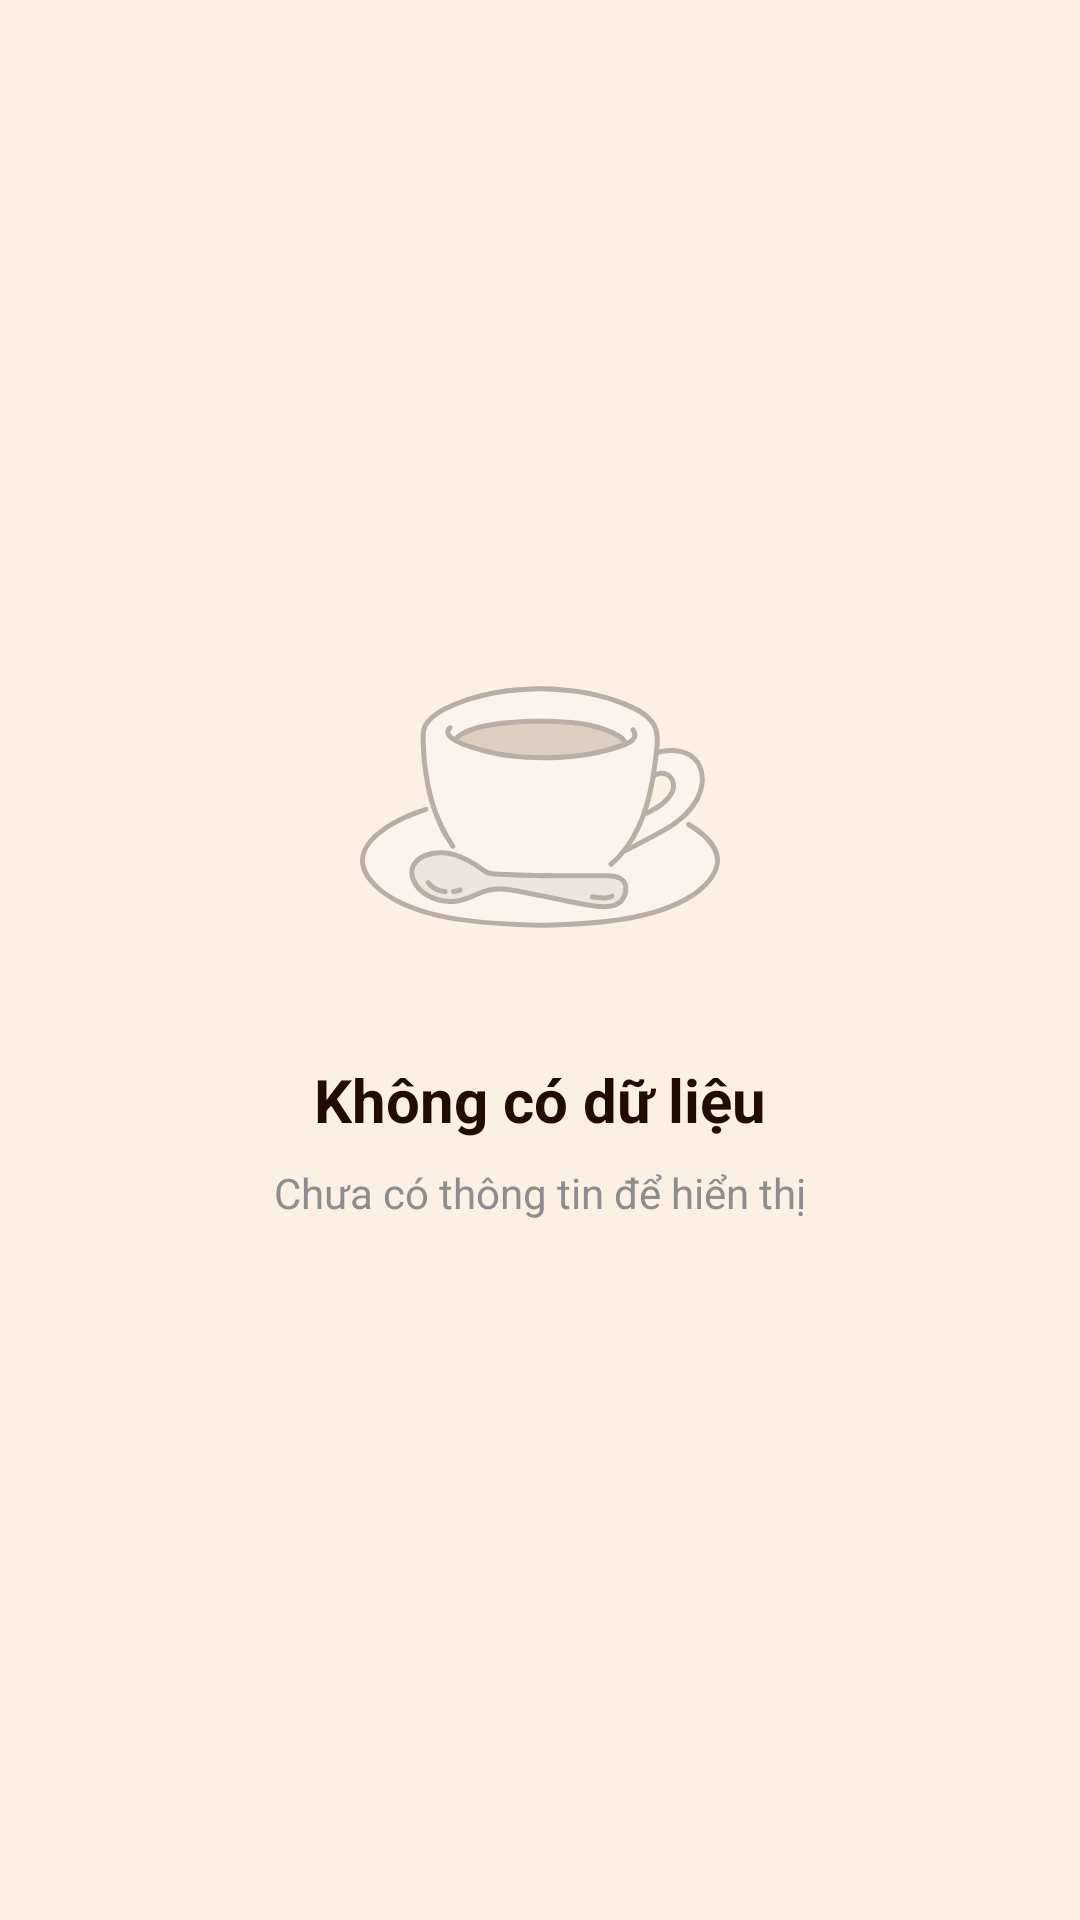

Icon click points for this 1080 × 1920 phone screenshot, format (x,y):
coffee: (540,807)
